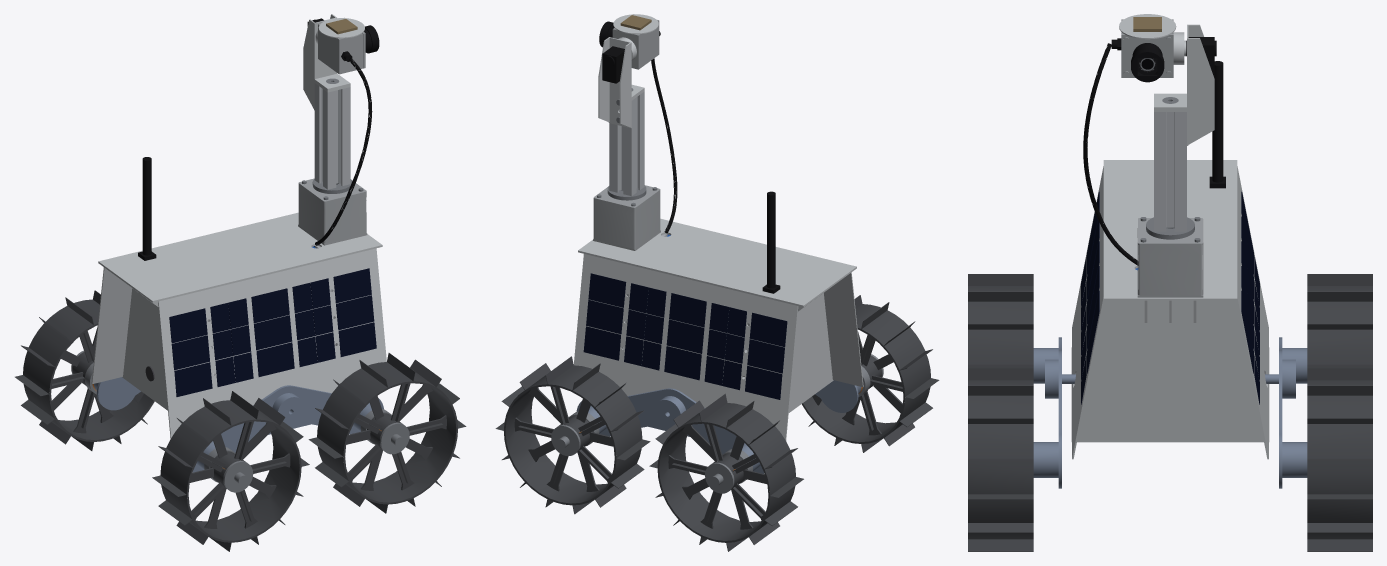
Rendered from rover.glb.
3 renders of one model, left to right at view 1: azimuth 30°, elevation 25°; view 2: azimuth 150°, elevation 25°; view 3: azimuth 270°, elevation 25°, orthographic. The views are drawn at different scales.
Visible parts, largest first — view 1: chassis, wheelRR, wheelFR, wheelRL, pan, linkR, head, linkL; view 2: chassis, wheelRL, wheelFL, wheelRR, pan, linkL, head, linkR; view 3: chassis, wheelFL, wheelFR, pan, wheelRL, wheelRR, head, linkL, linkR.
Boxes of the visible parts, x1,y1,x2,y2 form: chassis: (91, 58, 386, 438); wheelRR: (152, 391, 309, 551); wheelFR: (308, 353, 466, 513); wheelRL: (15, 290, 154, 450); pan: (303, 14, 352, 193); linkR: (192, 385, 383, 472); head: (315, 17, 379, 74); linkL: (92, 377, 140, 410); chassis: (573, 58, 863, 440); wheelRL: (649, 393, 803, 551); wheelFL: (495, 356, 650, 514); wheelRR: (802, 295, 939, 452); pan: (598, 37, 646, 200); linkL: (576, 388, 764, 473); head: (599, 14, 660, 69); linkR: (815, 380, 862, 412); chassis: (1071, 43, 1269, 459); wheelFL: (1307, 368, 1372, 551); wheelFR: (968, 368, 1033, 551); pan: (1146, 24, 1216, 239); wheelRL: (1307, 274, 1372, 368); wheelRR: (968, 274, 1033, 368); head: (1111, 14, 1186, 82); linkL: (1265, 337, 1307, 488); linkR: (1033, 337, 1075, 488).
Bounding box in the file's own units: 0.503 × 0.7137 × 0.4954.
